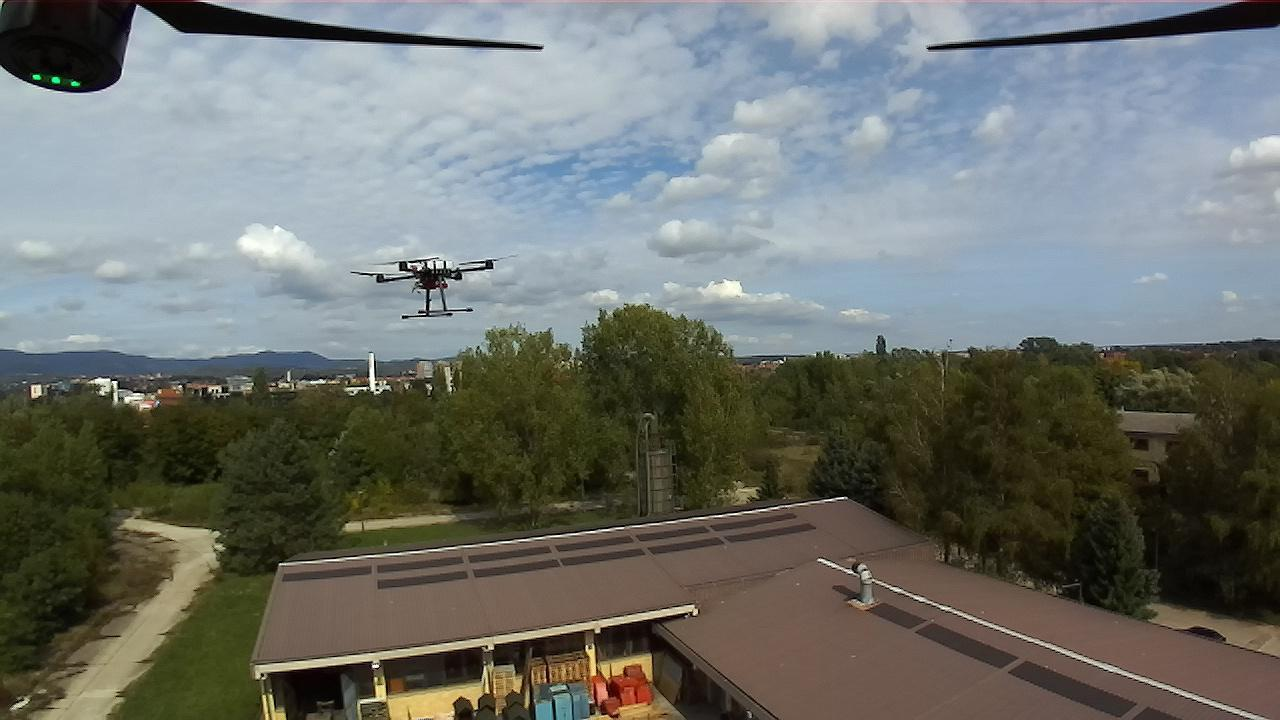drone: (347, 249, 522, 320)
